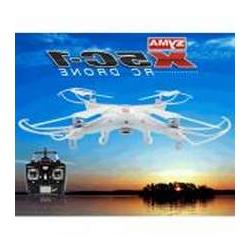drone: (18, 87, 232, 151)
